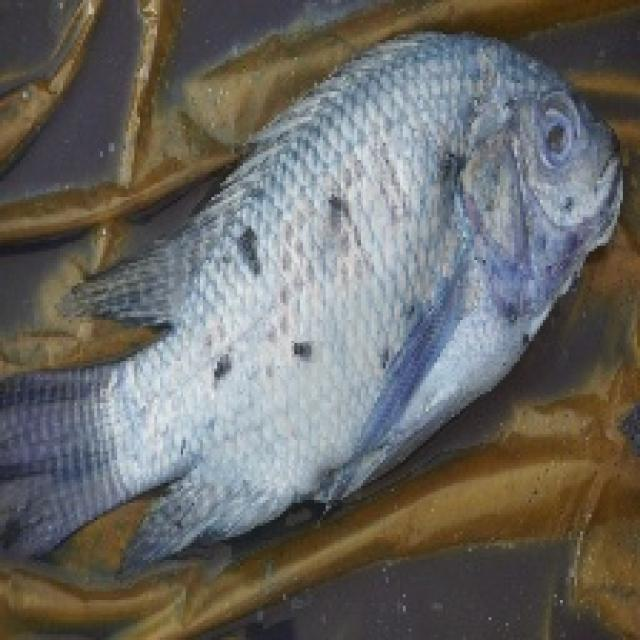Non-Fresh: (246, 46, 627, 382)
